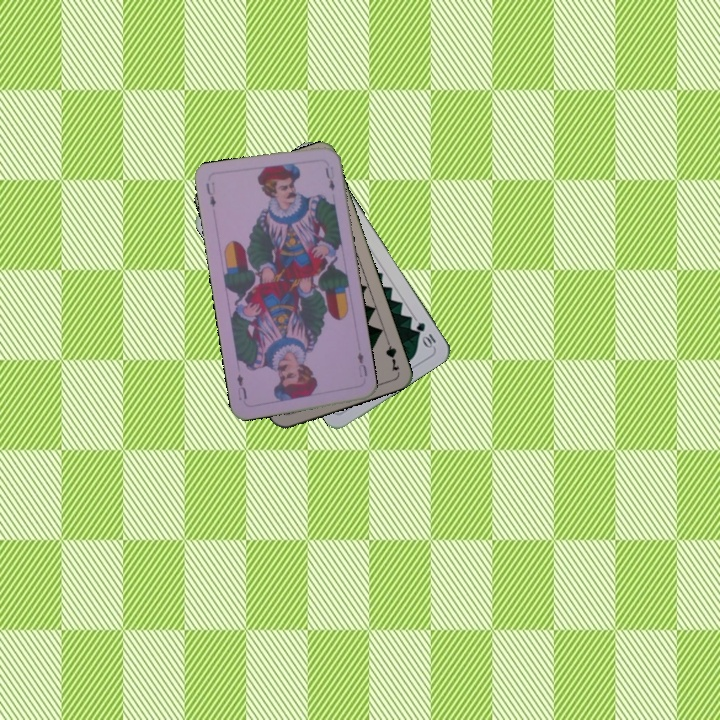EU: (353, 348, 370, 380), (202, 178, 219, 209)
G10: (412, 318, 439, 350)
G7: (382, 334, 402, 374)
